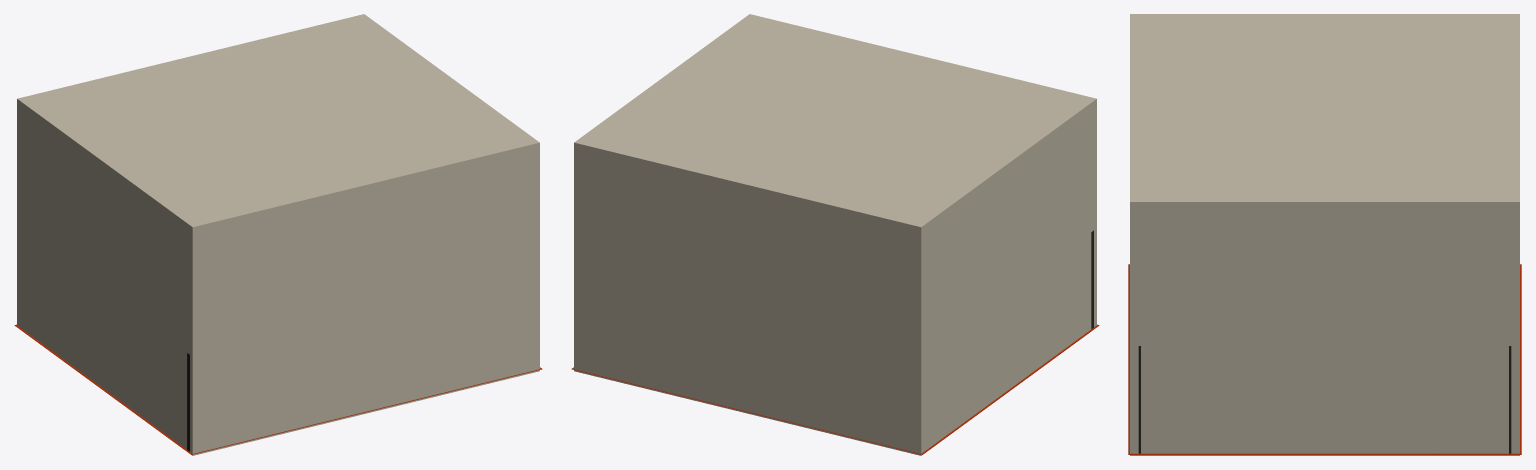
File: all01.fbx
3 renders of one model, left to right at view 1: azimuth 30°, elevation 25°; view 2: azimuth 150°, elevation 25°; view 3: azimuth 270°, elevation 25°, orthographic. The views are drawn at different scales.
Parts seen in each view (by area): view 1: wall, ground; view 2: wall, ground; view 3: wall, ground, Cylinder.
Boxes of the visible parts, bbox=[...] form: wall: bbox=[17, 14, 539, 455]; ground: bbox=[14, 324, 542, 454]; wall: bbox=[574, 14, 1096, 455]; ground: bbox=[571, 324, 1099, 454]; wall: bbox=[1130, 14, 1519, 455]; ground: bbox=[1128, 264, 1521, 454]; Cylinder: bbox=[1138, 346, 1511, 453].
Size of the model in its own units: 3942 by 2451 by 3442.
Materials: 19 (19 with a texture image).
